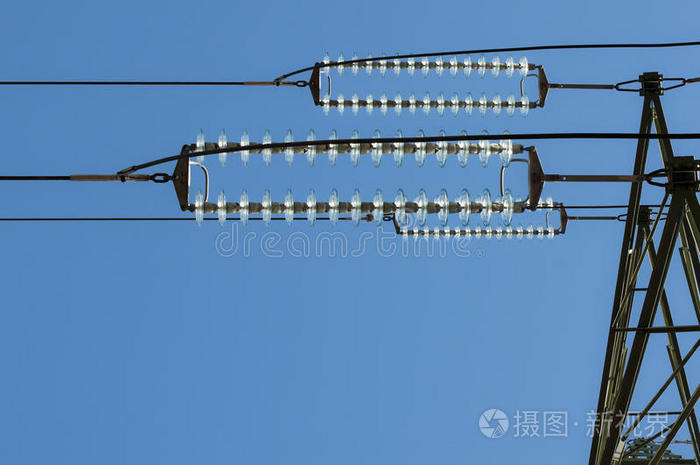insulator: (191, 124, 517, 168), (189, 186, 521, 227), (321, 46, 531, 80), (319, 91, 534, 116), (397, 221, 556, 242)
